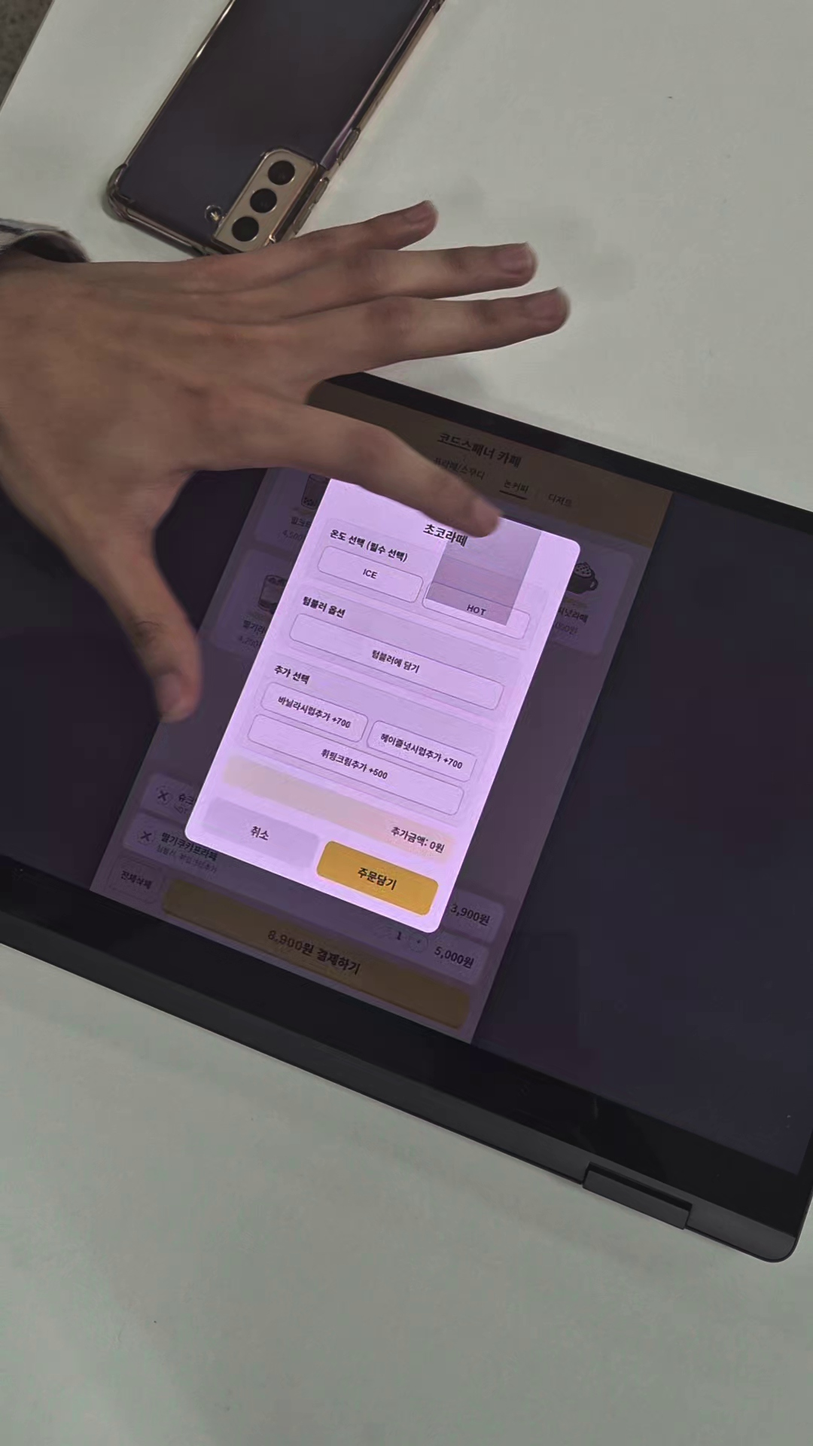action_button: (313, 839, 441, 921), (197, 792, 323, 872)
menu_name: (419, 518, 475, 551)
option_button: (246, 715, 467, 818), (288, 611, 507, 713), (363, 718, 482, 785), (260, 679, 369, 744), (423, 584, 533, 642), (318, 546, 426, 604)
popup_modal: (178, 452, 588, 942)
